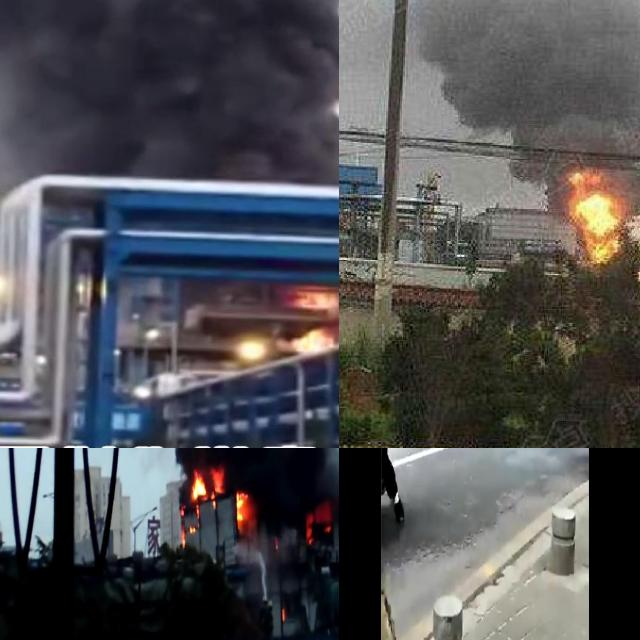fire: (565, 165, 626, 263), (179, 467, 230, 541), (282, 286, 339, 352), (234, 488, 248, 527)
smoke: (0, 0, 339, 182), (408, 0, 640, 169)
